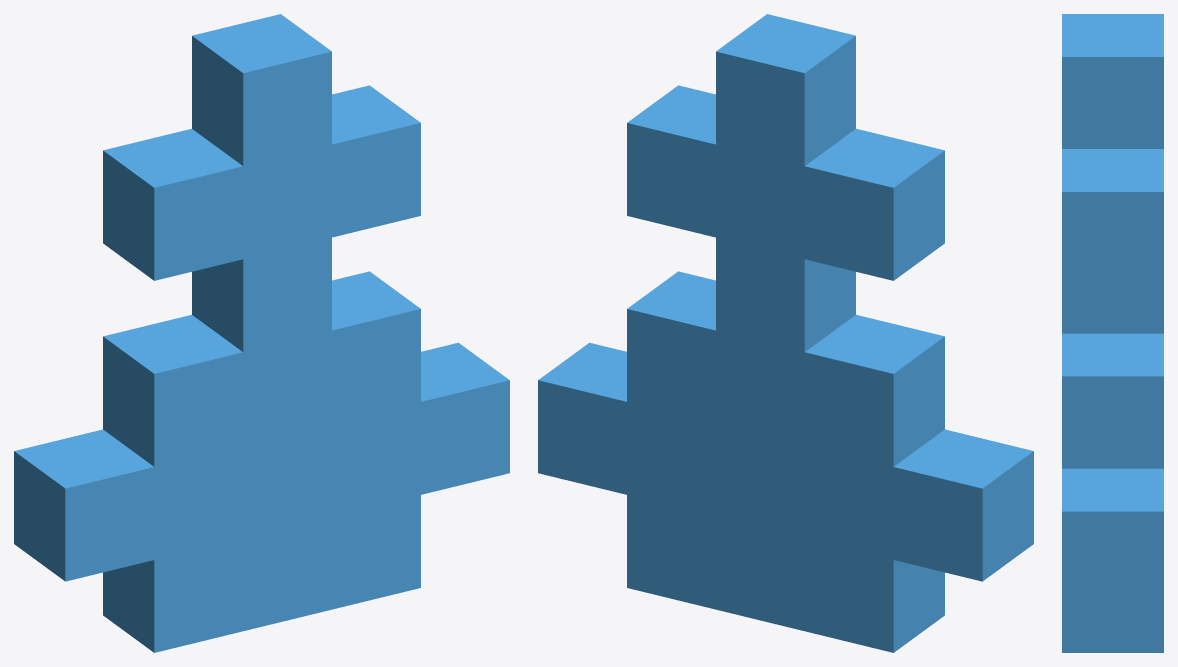
File: Potion-Small-Blue.vox.obj
The picture shows the model from 3 angles, left to right: view 1: azimuth 30°, elevation 25°; view 2: azimuth 150°, elevation 25°; view 3: azimuth 270°, elevation 25°; orthographic projection.
Bounding box in the file's own units: 0.5 × 0.6 × 0.1.
Materials: 1 (1 with a texture image).
